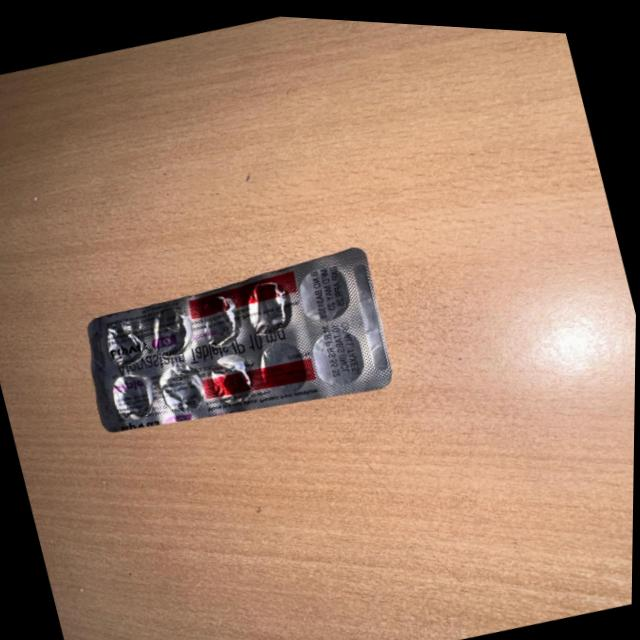medicine: (86, 218, 419, 448)
